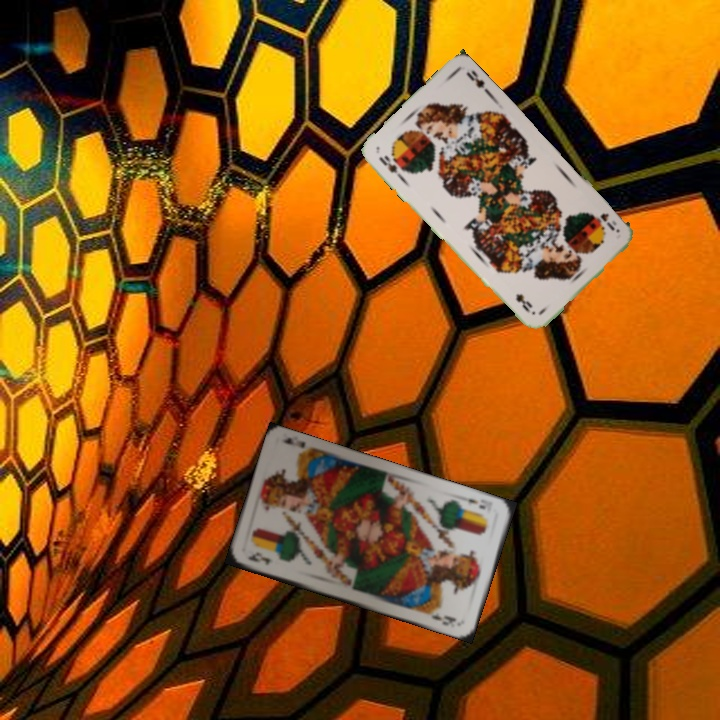EK: (243, 548, 276, 567), (459, 492, 488, 512)
SO: (375, 151, 406, 181), (596, 209, 619, 233)
